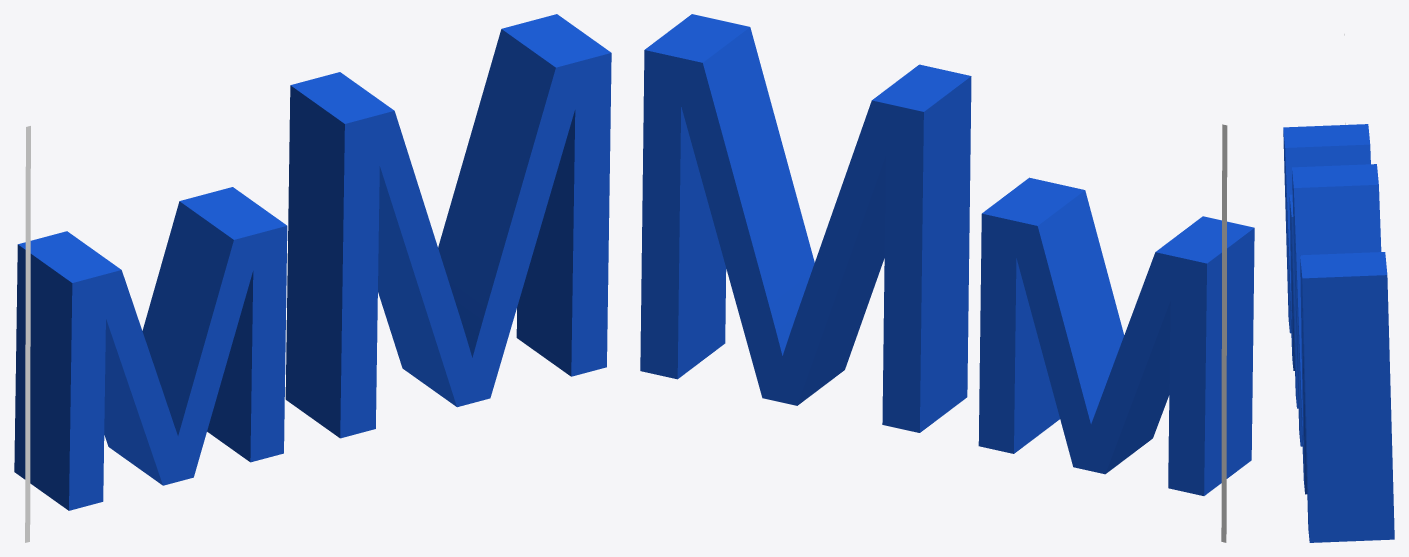
3 renders of one model, left to right at view 1: azimuth 30°, elevation 25°; view 2: azimuth 150°, elevation 25°; view 3: azimuth 270°, elevation 25°, orthographic. The views are drawn at different scales.
Visible parts, largest first — view 1: Mesh_0.016, Плоскость; view 2: Mesh_0.016, Плоскость; view 3: Mesh_0.016.
Boxes of the visible parts, x1=… form: Mesh_0.016: x1=14, y1=14, x2=611, y2=510; Плоскость: x1=25, y1=126, x2=30, y2=542; Mesh_0.016: x1=640, y1=14, x2=1254, y2=495; Плоскость: x1=1221, y1=124, x2=1227, y2=542; Mesh_0.016: x1=1283, y1=124, x2=1394, y2=542.
Bounding box in the file's own units: 13.21 × 9.38 × 2.73.
